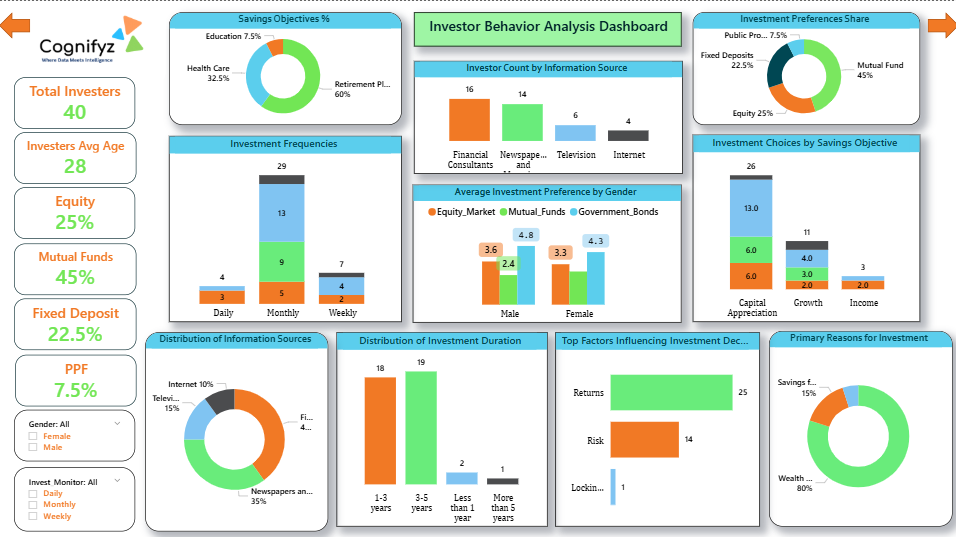

What the dashboard file says about the page in this screenshot:
{"tool":"powerbi","page":{"name":"Dashboard","canvas":[1280,720],"ordinal":1},"visuals":[{"type":"card","title":"Mutual Funds","fields":{"Values":["New Measures.total Investment"]},"box":[20,322.9,162.9,68.6],"z":0},{"type":"card","title":"Equity","fields":{"Values":["New Measures.Equity Market %"]},"box":[20,248.6,161.4,68.6],"z":1000},{"type":"card","title":"Fixed Deposit","fields":{"Values":["New Measures.Fixed Deposite %"]},"box":[20,397.1,162.9,68.6],"z":2000},{"type":"donutChart","title":"Savings Objectives %","fields":{"Y":["New Measures.Savings Obj Count"],"Category":["Data_set 2.What are your savings objectives?"]},"box":[226.2,14.7,310.6,150.4],"z":3000},{"type":"card","title":"PPF","fields":{"Values":["New Measures.% PPF"]},"box":[21.4,471.4,161.4,68.6],"z":4000},{"type":"image","box":[0,0,227.1,120],"z":5000},{"type":"donutChart","title":"Investment Preferences Share","fields":{"Category":["Data_set 2.Avenue"],"Y":["CountNonNull(Data_set 2.Avenue)"]},"box":[924.5,14.7,303.3,150.4],"z":6000},{"type":"shape","box":[0,14.7,41.6,35.5],"z":7000},{"type":"shape","box":[1238.7,14.7,41.6,35.5],"z":8000},{"type":"columnChart","title":"Investment Choices by Savings Objective","fields":{"Category":["Data_set 2.Objective"],"Series":["Data_set 2.Avenue"],"Y":["CountNonNull(Data_set 2.Avenue)"]},"box":[924.5,178.5,303.3,249.5],"z":9000},{"type":"card","title":"Investers Avg Age","fields":{"Values":["New Measures.Average Age"]},"box":[20,175.7,162.9,68.6],"z":10000},{"type":"clusteredColumnChart","title":"Average Investment Preference by Gender","fields":{"Category":["Data_set 2.gender"],"Y":["Avg(Data_set 2.Equity_Market)","Avg(Data_set 2.Mutual_Funds)","Avg(Data_set 2.Government_Bonds)"]},"box":[551.4,244.3,358.6,184.3],"z":11000},{"type":"slicer","fields":{"Values":["Data_set 2.gender"]},"box":[20,545.7,161.4,68.6],"z":12000},{"type":"columnChart","title":"Investment Frequencies","fields":{"Category":["Data_set 2.Invest_Monitor"],"Series":["Data_set 2.Avenue"],"Y":["CountNonNull(Data_set 2.Avenue)"]},"box":[226.2,179.8,310.6,248.2],"z":13000},{"type":"clusteredColumnChart","title":"Distribution of Investment Duration","fields":{"Category":["Data_set 2.Duration"],"Y":["CountNonNull(Data_set 2.Duration)"]},"box":[450,441.4,281.3,259.2],"z":14000},{"type":"donutChart","title":"Primary Reasons for Investment","fields":{"Category":["Data_set 2.Purpose"],"Y":["CountNonNull(Data_set 2.Purpose)"]},"box":[1026,440.2,244.6,260.5],"z":15000},{"type":"clusteredBarChart","title":"Top Factors Influencing Investment Decisions","fields":{"Category":["Data_set 2.Factor"],"Y":["CountNonNull(Data_set 2.Factor)"]},"box":[742.3,441.4,272.7,259.2],"z":16000},{"type":"clusteredColumnChart","title":"Investor Count by Information Source","fields":{"Category":["Data_set 2.Source"],"Y":["CountNonNull(Data_set 2.Source)"]},"box":[552.9,80,358.6,150],"z":17000},{"type":"donutChart","title":"Distribution of Information Sources","fields":{"Category":["Data_set 2.Source"],"Y":["CountNonNull(Data_set 2.Source)"]},"box":[195.7,441.4,244.3,265.7],"z":18000},{"type":"slicer","fields":{"Values":["Data_set 2.Invest_Monitor"]},"box":[20,621.4,161.4,85.7],"z":19000},{"type":"textbox","box":[552.9,14.3,357.1,45.7],"z":20000},{"type":"card","title":"Total Investers","fields":{"Values":["New Measures.Total Investors"]},"box":[20,101.4,161.4,68.6],"z":21000}]}

Visuals, with their boxes in screenshot pixels (x1, y1, x2, y2), scaled from the page's 1280x720 canvas onto the 956x537 screenshot:
"Mutual Funds" card: locate(15, 241, 137, 292)
"Equity" card: locate(15, 185, 135, 237)
"Fixed Deposit" card: locate(15, 296, 137, 347)
"Savings Objectives %" donutChart: locate(169, 11, 401, 123)
"PPF" card: locate(16, 352, 137, 403)
image: locate(0, 0, 170, 90)
"Investment Preferences Share" donutChart: locate(690, 11, 917, 123)
shape: locate(0, 11, 31, 37)
shape: locate(925, 11, 955, 37)
"Investment Choices by Savings Objective" columnChart: locate(690, 133, 917, 319)
"Investers Avg Age" card: locate(15, 131, 137, 182)
"Average Investment Preference by Gender" clusteredColumnChart: locate(412, 182, 680, 320)
slicer - Data_set 2.gender: locate(15, 407, 135, 458)
"Investment Frequencies" columnChart: locate(169, 134, 401, 319)
"Distribution of Investment Duration" clusteredColumnChart: locate(336, 329, 546, 523)
"Primary Reasons for Investment" donutChart: locate(766, 328, 949, 523)
"Top Factors Influencing Investment Decisions" clusteredBarChart: locate(554, 329, 758, 523)
"Investor Count by Information Source" clusteredColumnChart: locate(413, 60, 681, 172)
"Distribution of Information Sources" donutChart: locate(146, 329, 329, 527)
slicer - Data_set 2.Invest_Monitor: locate(15, 463, 135, 527)
textbox: locate(413, 11, 680, 45)
"Total Investers" card: locate(15, 76, 135, 127)
